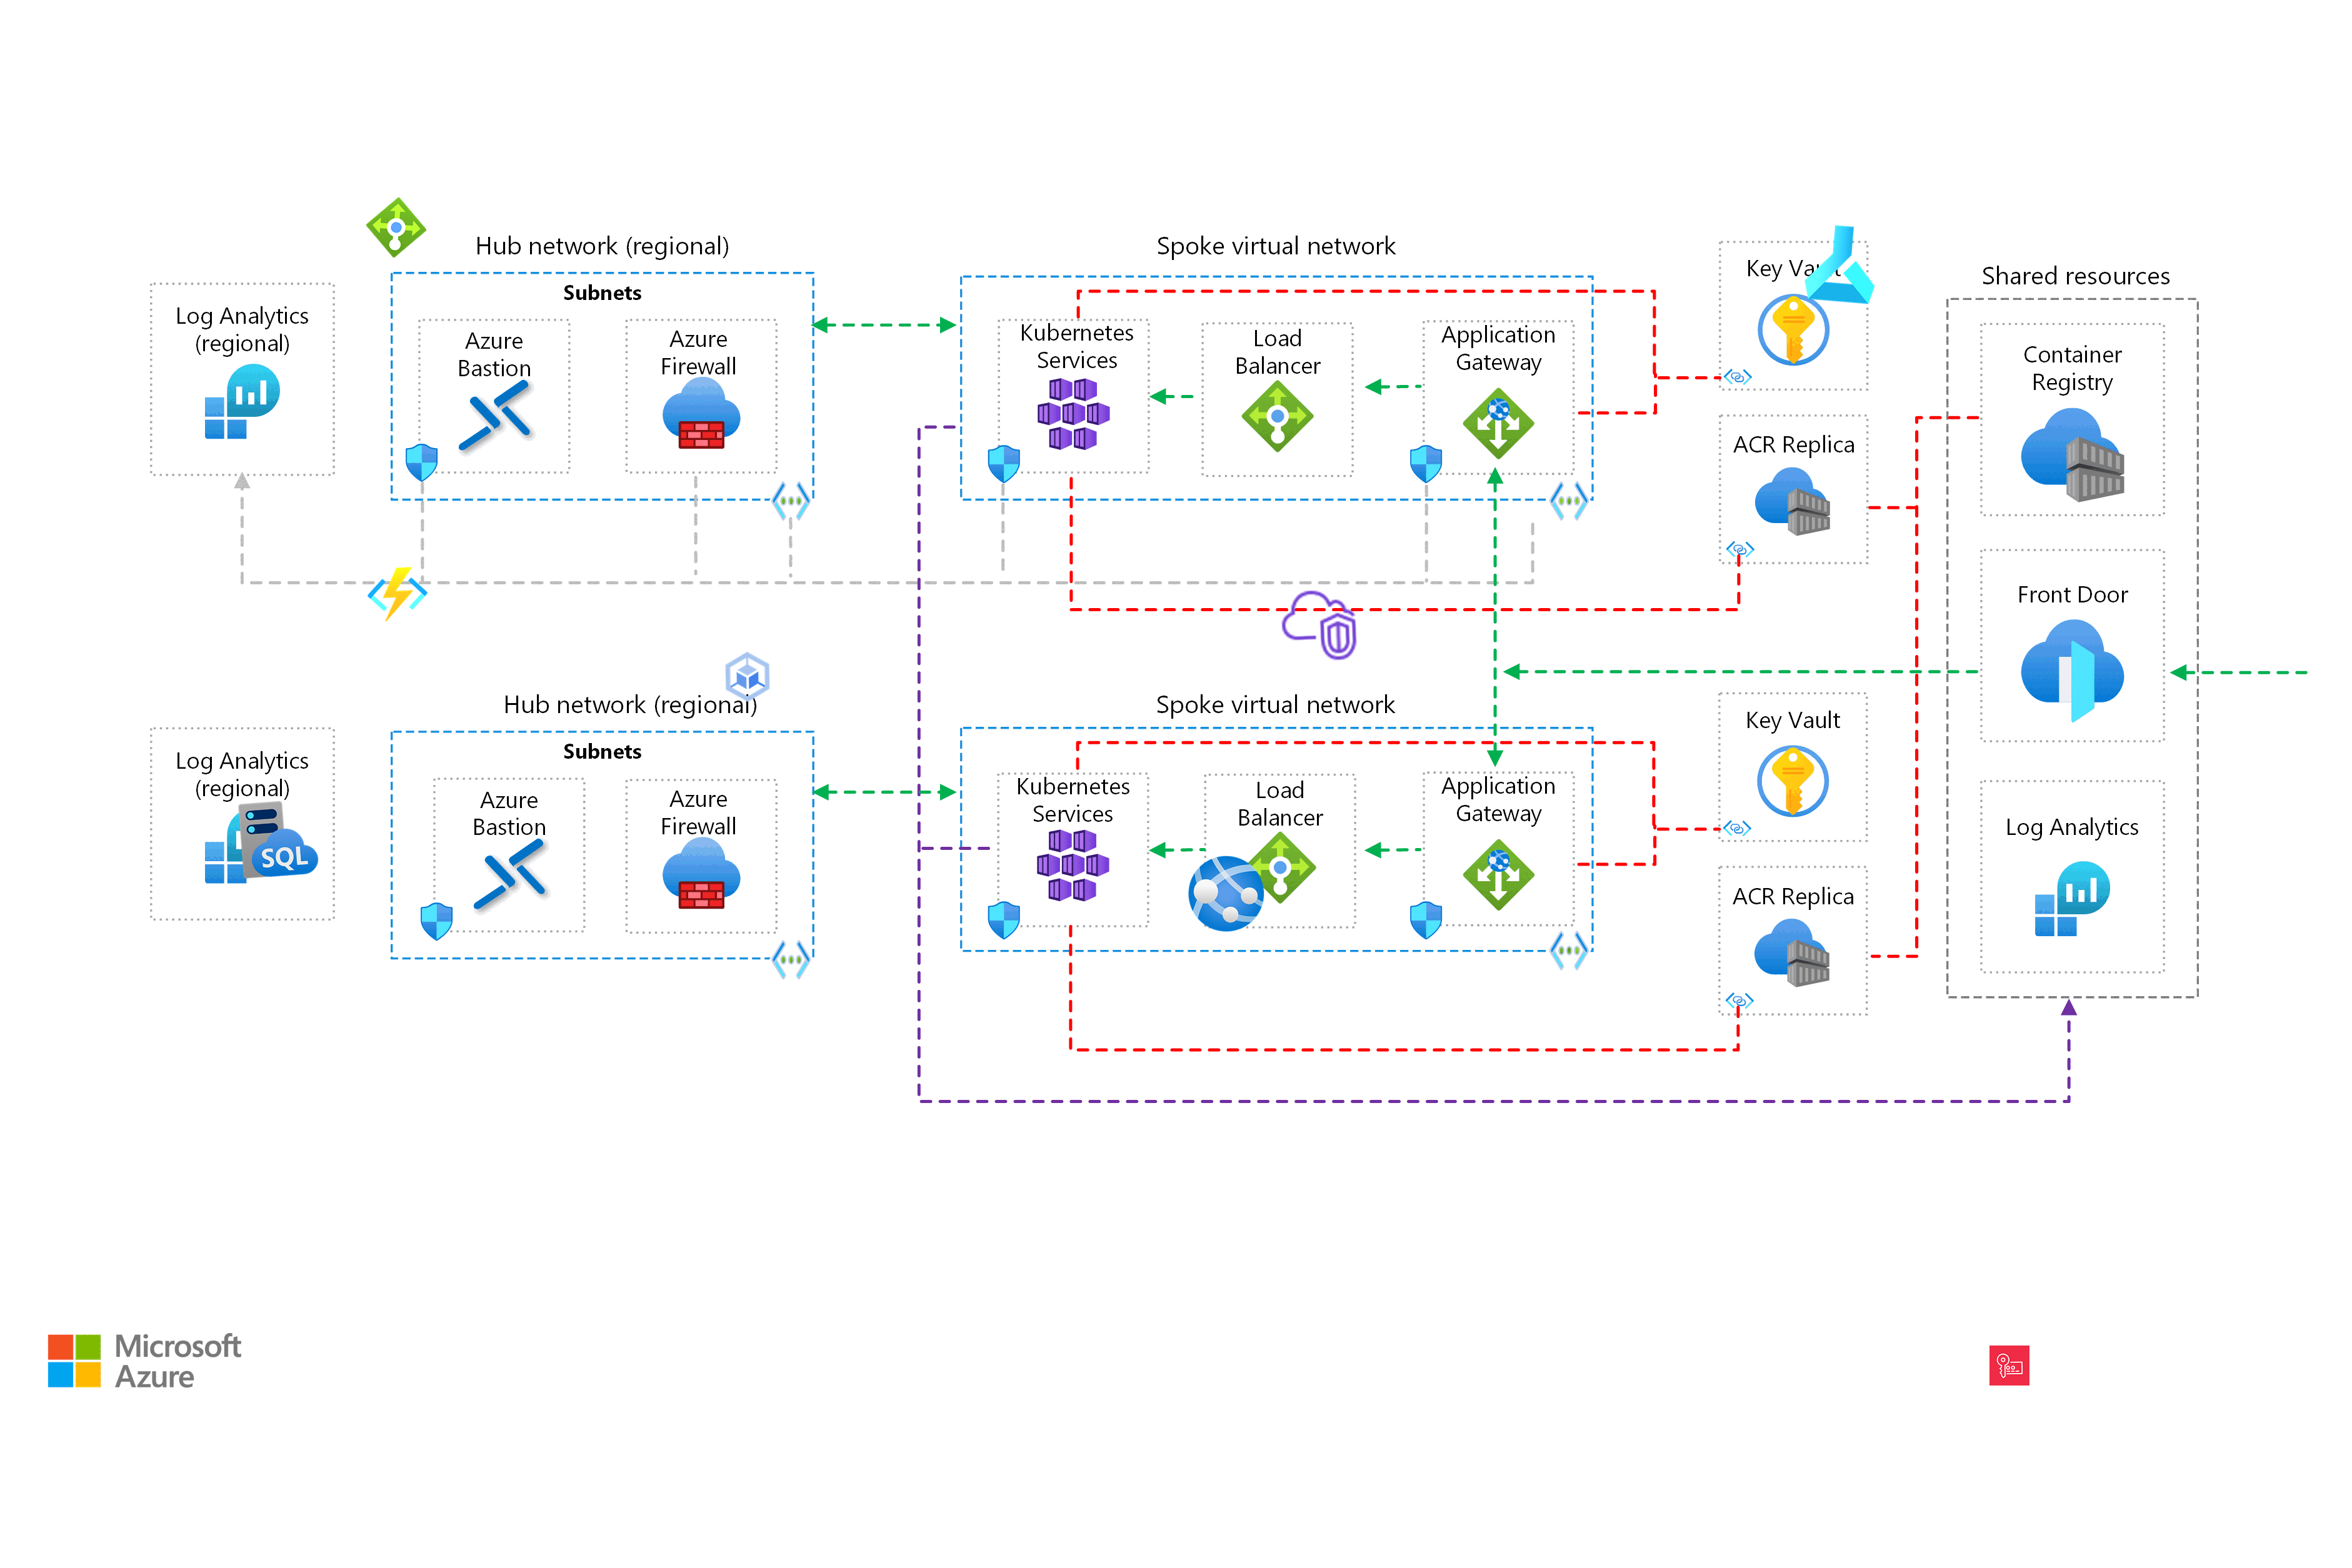aws_key_management_service: (1988, 1346, 2030, 1386)
aws_vpc_virtual_private_cloud_vpc: (1277, 584, 1361, 667)
azure_app_services: (1185, 852, 1269, 936)
azure_function_apps: (366, 562, 429, 626)
azure_load_balancers: (364, 194, 429, 261)
azure_machine_learning: (1797, 220, 1885, 308)
azure_sql_managed_instance: (236, 796, 322, 882)
gcp_google_kubernetes_engine: (717, 646, 779, 707)
